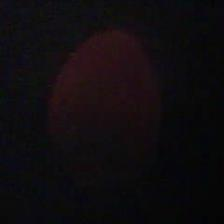fertile: (47, 26, 162, 192)
